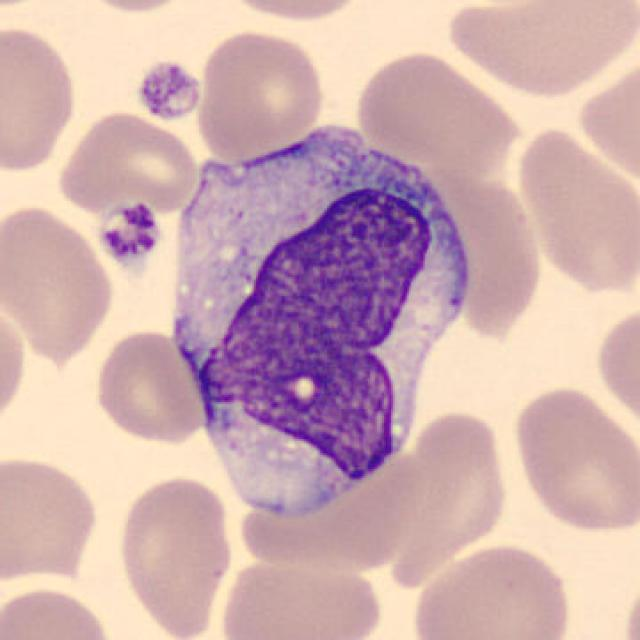Monocyte: (158, 116, 480, 538)
Platelets: (132, 56, 204, 124), (98, 201, 164, 270)
RBC: (510, 116, 638, 300), (386, 406, 514, 587), (350, 46, 524, 171), (111, 470, 236, 640), (507, 381, 638, 538), (0, 199, 117, 363), (442, 0, 634, 99), (192, 27, 327, 158), (405, 539, 575, 640), (51, 107, 202, 217), (215, 552, 388, 640), (91, 326, 208, 448), (0, 451, 103, 587), (0, 21, 82, 176), (0, 583, 117, 640), (592, 298, 638, 434), (211, 0, 377, 25), (0, 300, 30, 434), (64, 0, 203, 16), (618, 562, 640, 639), (0, 0, 60, 16)
